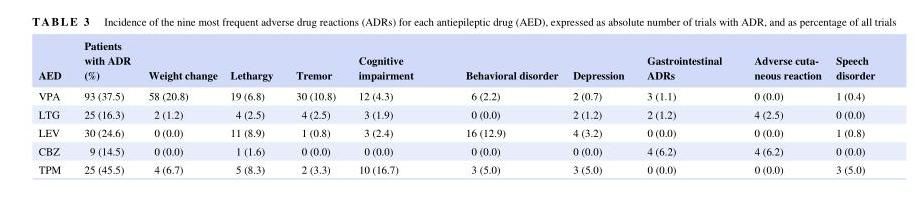table: (38, 37, 875, 178)
table column: (439, 37, 565, 178), (635, 37, 738, 178), (347, 37, 439, 178), (738, 37, 828, 178), (140, 37, 224, 178), (565, 37, 635, 178), (73, 37, 140, 178), (284, 37, 347, 178), (224, 37, 284, 178), (828, 37, 875, 178), (38, 37, 73, 178)
table column header: (38, 37, 875, 86)
table row: (38, 37, 875, 86), (38, 86, 875, 105), (38, 123, 875, 142), (38, 105, 875, 123), (38, 142, 875, 160), (38, 160, 875, 178)
